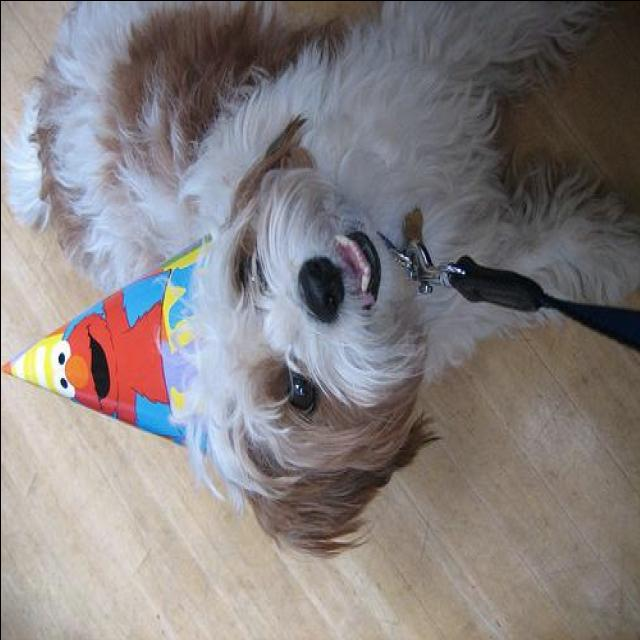shih_tzu: (1, 2, 638, 556)
